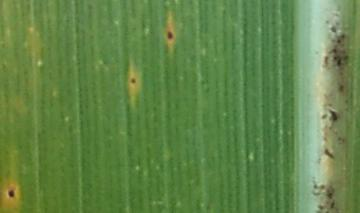tarspot: (162, 24, 179, 46), (127, 72, 143, 92), (7, 183, 18, 207)
